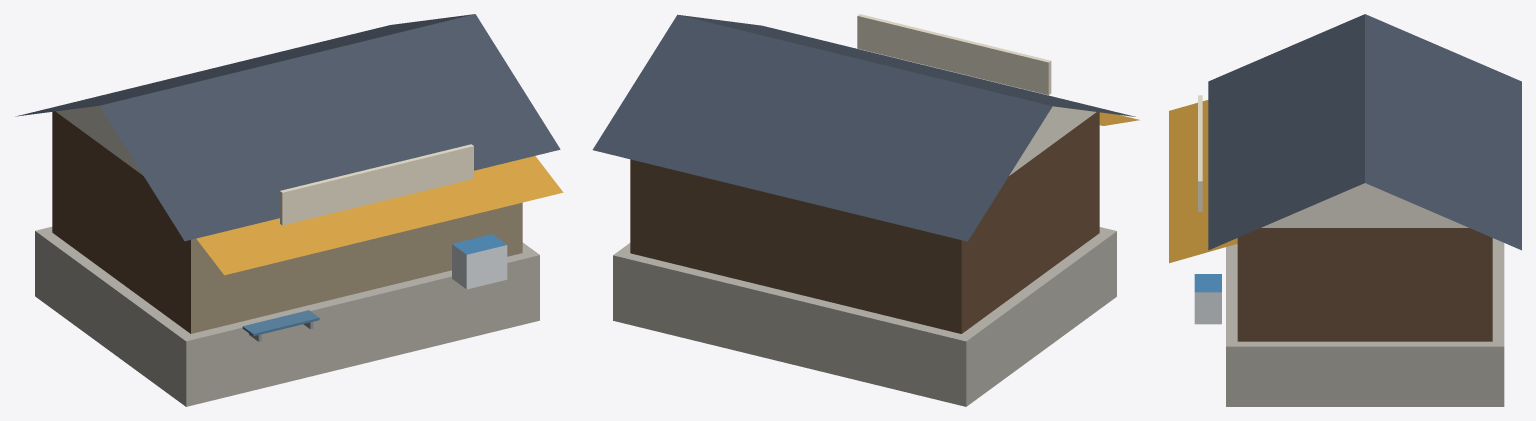
File: shop.glb
3 renders of one model, left to right at view 1: azimuth 30°, elevation 25°; view 2: azimuth 150°, elevation 25°; view 3: azimuth 270°, elevation 25°, orthographic. The views are drawn at different scales.
Visible parts, largest first — view 1: shop; view 2: shop; view 3: shop.
Boxes of the visible parts, x1=… form: shop: x1=15, y1=14, x2=563, y2=406; shop: x1=592, y1=14, x2=1139, y2=406; shop: x1=1169, y1=14, x2=1521, y2=406.
Bounding box in the file's own units: 10.2 × 6.44 × 9.
